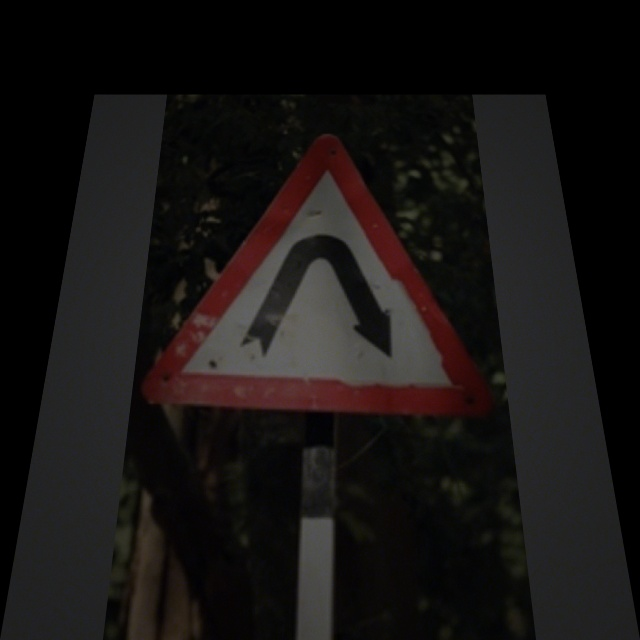Right_Hair_Pin_Bend: (151, 132, 479, 413)
